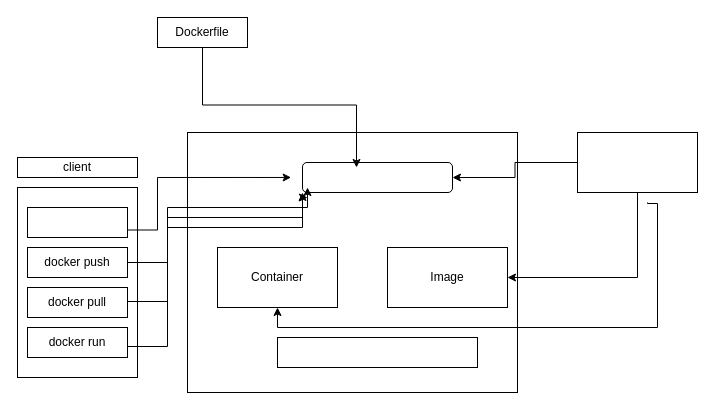
Some shapes in this 715 by 410 pixel diagram are drawn without their labels. The shapes that lost their labels are listed below. From the top down, each one's centre as x and y in pixels, then its label:
At pixel 377 177: "Docker daemon (Dockerd)".
At pixel 637 162: "Registry(DockerHub)".
At pixel 77 222: "docker build".
At pixel 377 352: "Container Runtime".
